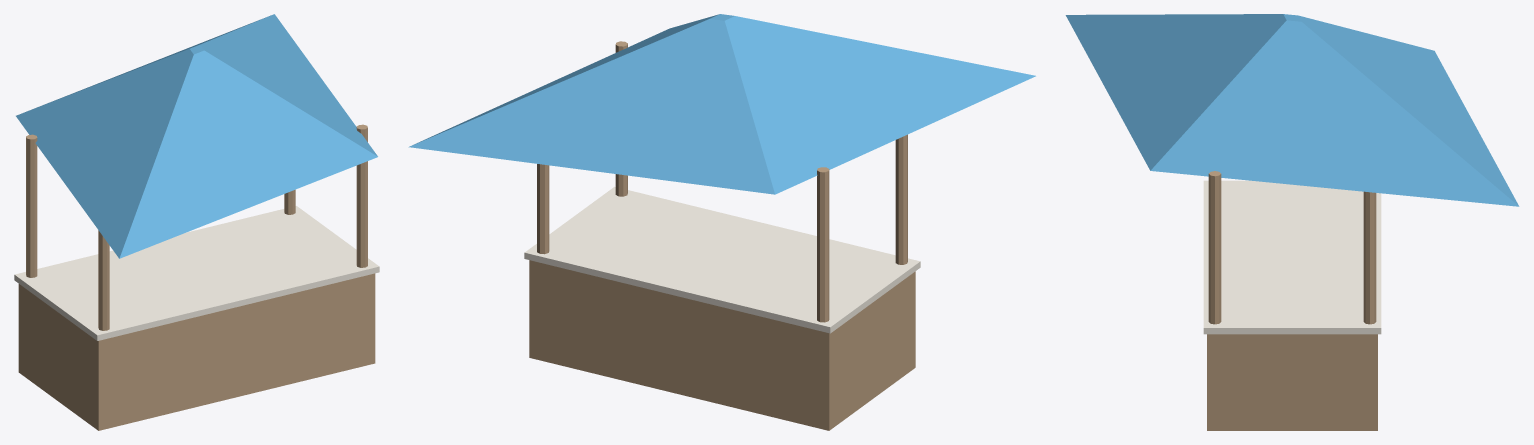
File: PlazaArtigas_Stall.fbx
The picture shows the model from 3 angles, left to right: view 1: azimuth 30°, elevation 25°; view 2: azimuth 150°, elevation 25°; view 3: azimuth 270°, elevation 25°; orthographic projection. The views are drawn at different scales.
Parts seen in each view (by area): view 1: Cone, Cube, Cube.001, Cylinder.001, Cylinder.002, Cylinder; view 2: Cone, Cube, Cube.001, Cylinder.001, Cylinder, Cylinder.003; view 3: Cone, Cube.001, Cube, Cylinder.002, Cylinder.003.
Boxes of the visible parts, x1=… form: Cone: x1=16, y1=14, x2=377, y2=258; Cube: x1=18, y1=273, x2=375, y2=430; Cube.001: x1=14, y1=206, x2=379, y2=340; Cylinder.001: x1=26, y1=134, x2=37, y2=277; Cylinder.002: x1=356, y1=124, x2=367, y2=267; Cylinder: x1=98, y1=230, x2=109, y2=330; Cone: x1=408, y1=14, x2=1035, y2=194; Cube: x1=529, y1=260, x2=915, y2=430; Cube.001: x1=524, y1=186, x2=920, y2=333; Cylinder.001: x1=817, y1=167, x2=829, y2=322; Cylinder: x1=895, y1=134, x2=907, y2=264; Cylinder.003: x1=537, y1=164, x2=549, y2=254; Cone: x1=1065, y1=14, x2=1519, y2=206; Cube.001: x1=1203, y1=180, x2=1381, y2=334; Cube: x1=1207, y1=334, x2=1377, y2=430; Cylinder.002: x1=1208, y1=171, x2=1221, y2=324; Cylinder.003: x1=1363, y1=191, x2=1376, y2=324.
Size of the model in its own units: 3.98 by 3.3 by 3.98.
